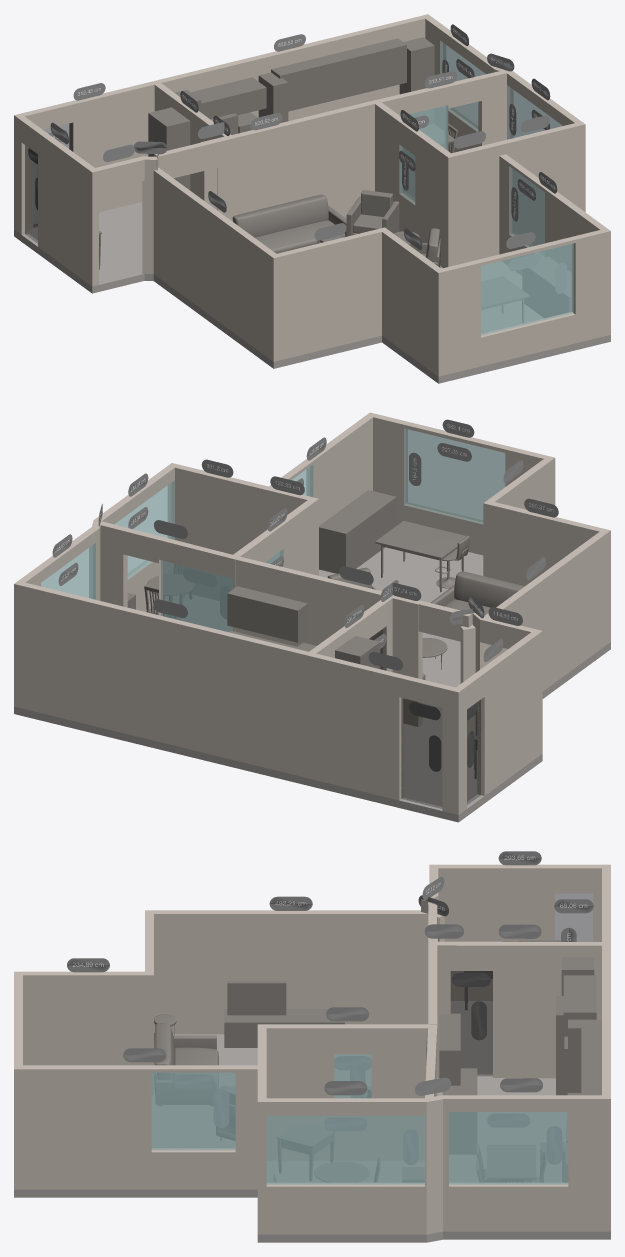
The model's file is umut sitesi.glb.
The picture shows the model from 3 angles, top to bottom: view 1: azimuth 30°, elevation 25°; view 2: azimuth 150°, elevation 25°; view 3: azimuth 270°, elevation 25°; orthographic projection. The views are drawn at different scales.
Visible parts, largest first — view 1: Geom; view 2: Geom; view 3: Geom.
Boxes of the visible parts, x1,y1,x2,y2 form: Geom: (14,14,610,383); Geom: (14,412,610,822); Geom: (14,851,610,1242).
Size of the model in its own units: 10.08 by 3.12 by 10.71.
